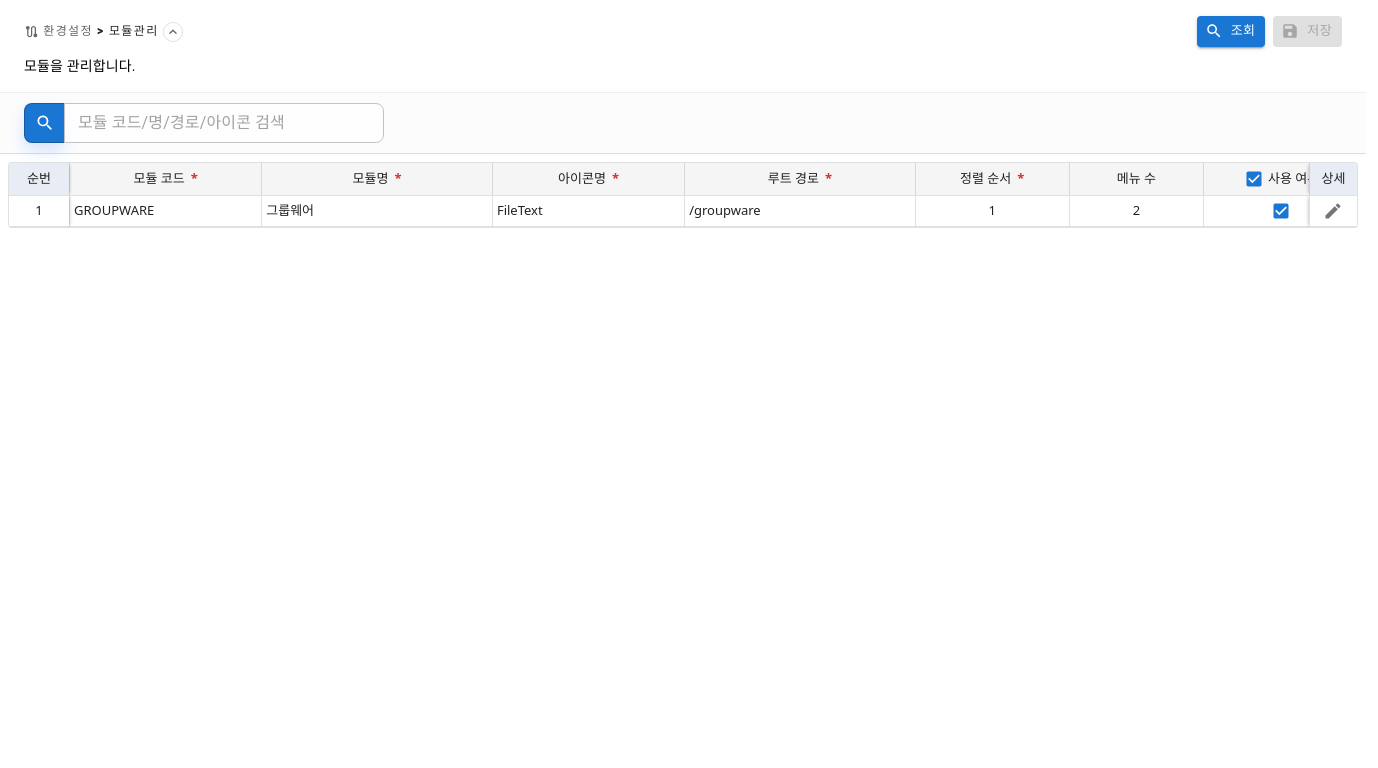
Test: ModuleManagementPage › shows a success toast after saving module changes
The image size is (1378, 768).
Double-click the cell "그룹웨어".
double_click(377, 211)  # box 261,195 -> 492,227
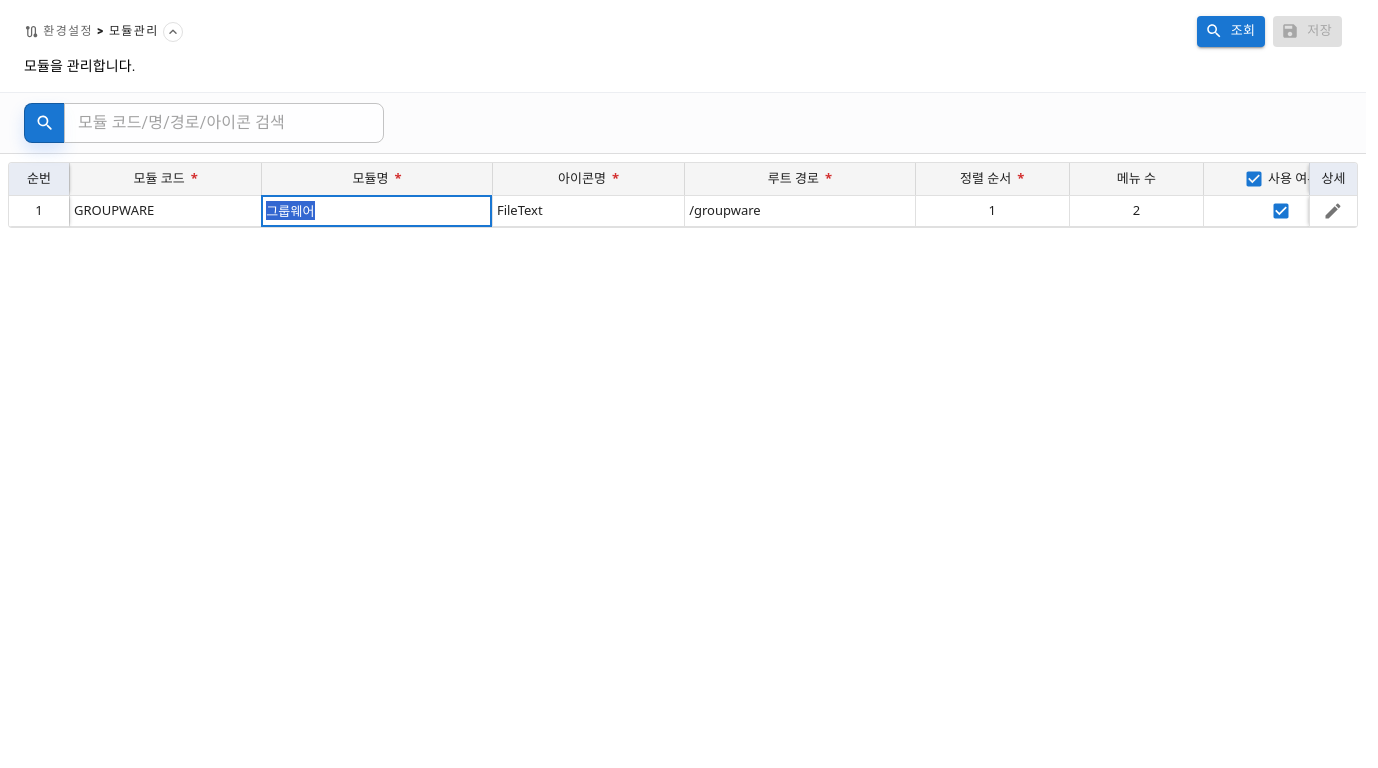
Replace the text in the field showing "그룹웨어" with "그룹웨어 수정" at x=377, y=211, box 266,200 -> 488,222
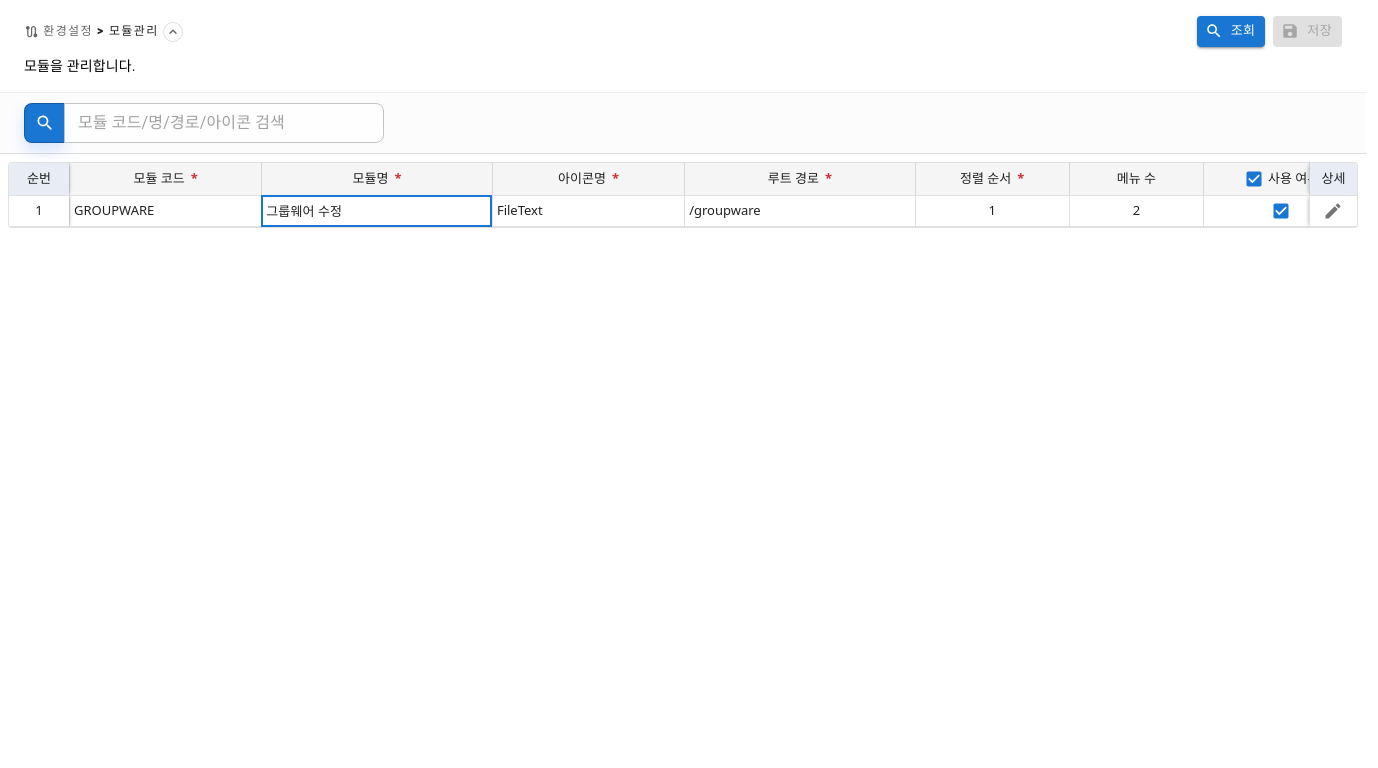
Press Enter in the field showing "그룹웨어 수정", box 266,200 -> 488,222
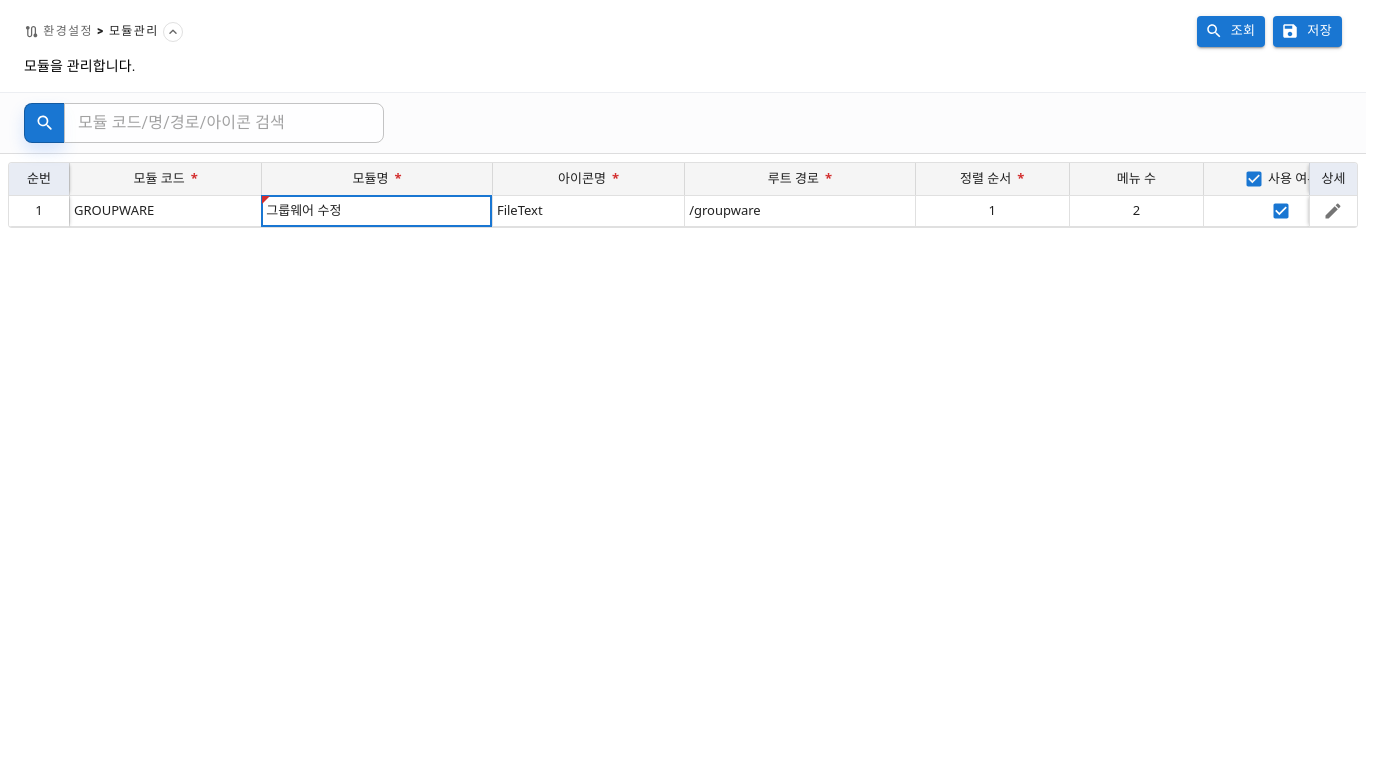
Click the button "저장".
click(1308, 31)  # box 1273,16 -> 1342,47
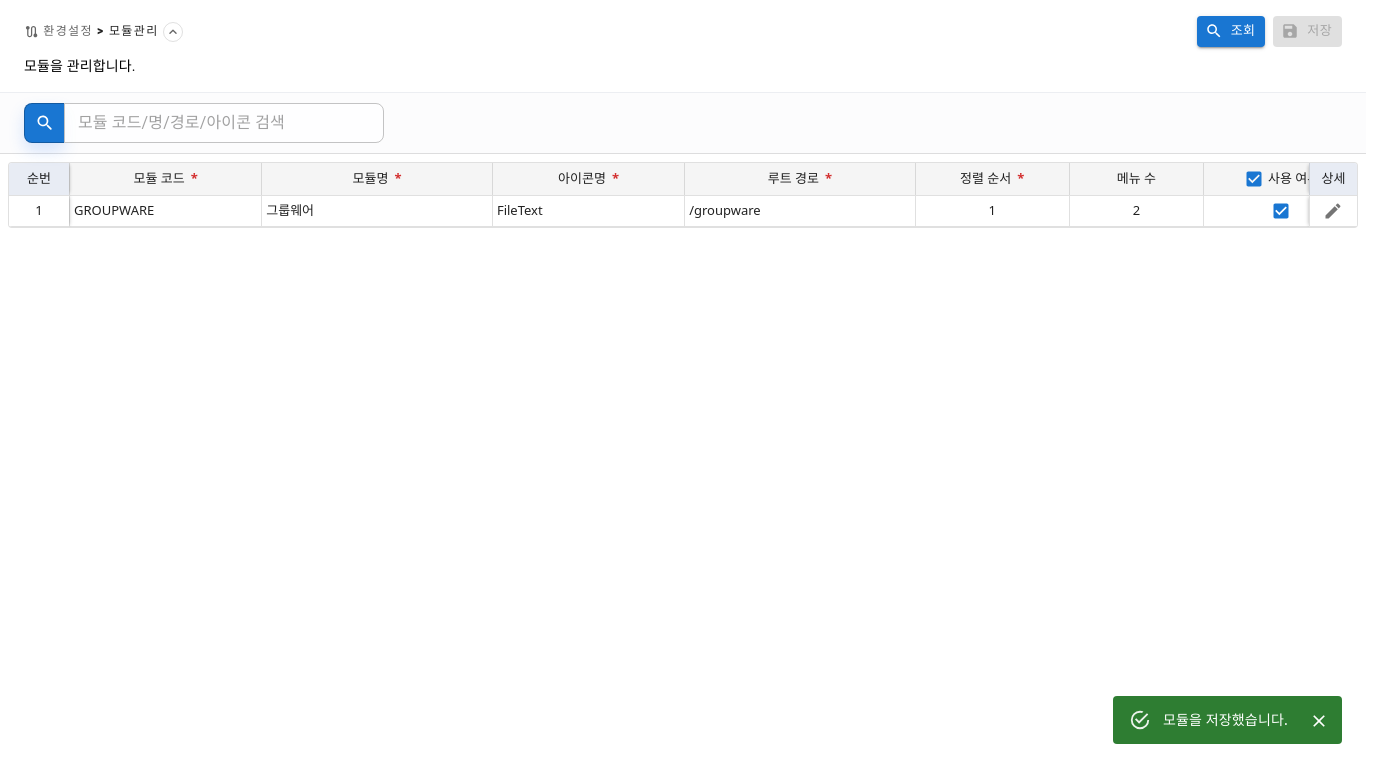
Check: the text "모듈을 저장했습니다." is shown, box 1163,712 -> 1288,728
